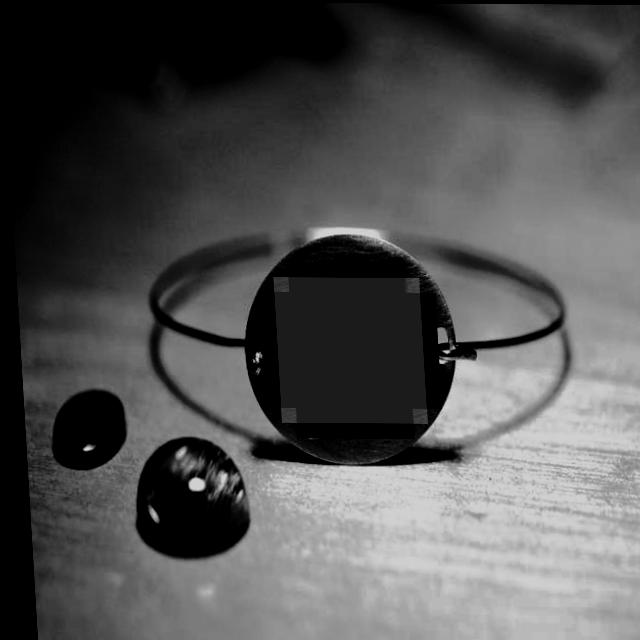qr_code: (270, 276, 423, 423)
